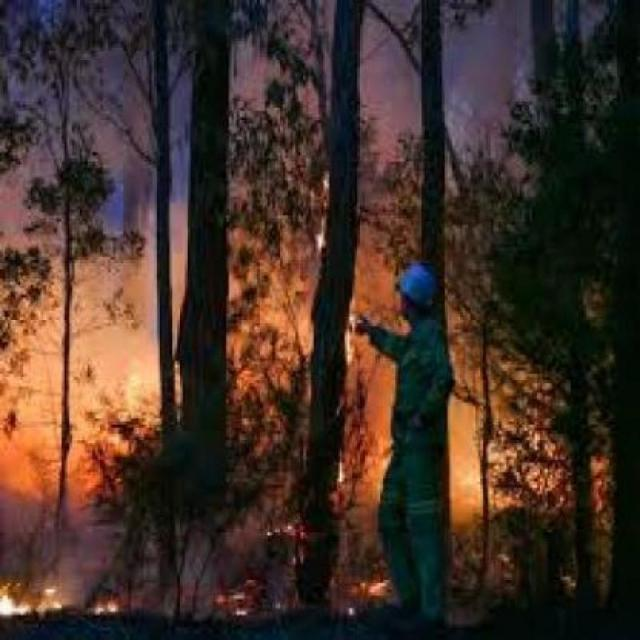Fire: (0, 228, 352, 548)
